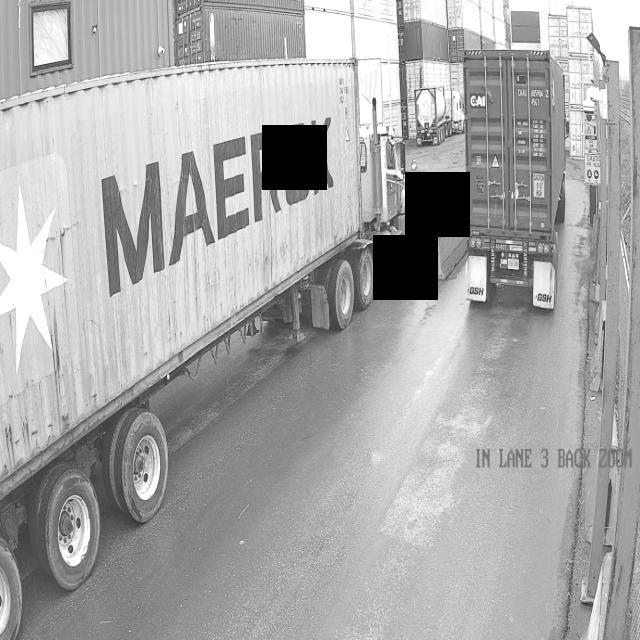container_company_logo: (101, 113, 336, 296)
truck_with_container: (0, 59, 418, 640), (462, 50, 566, 310)
